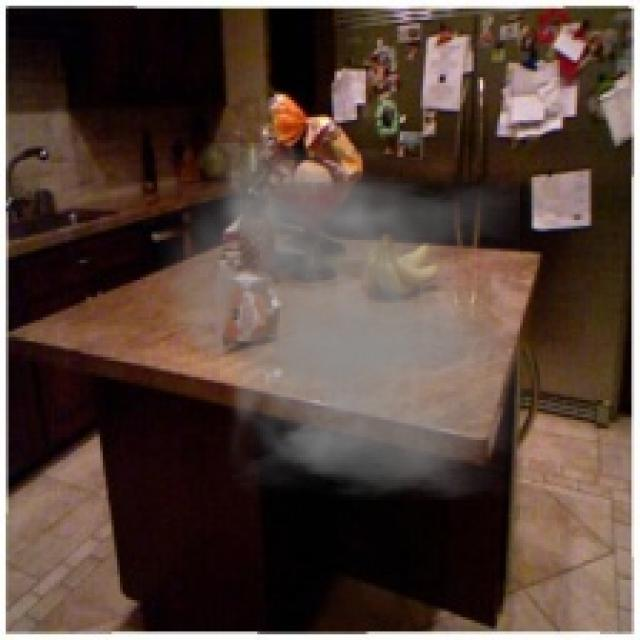smoke: (149, 143, 520, 500)
